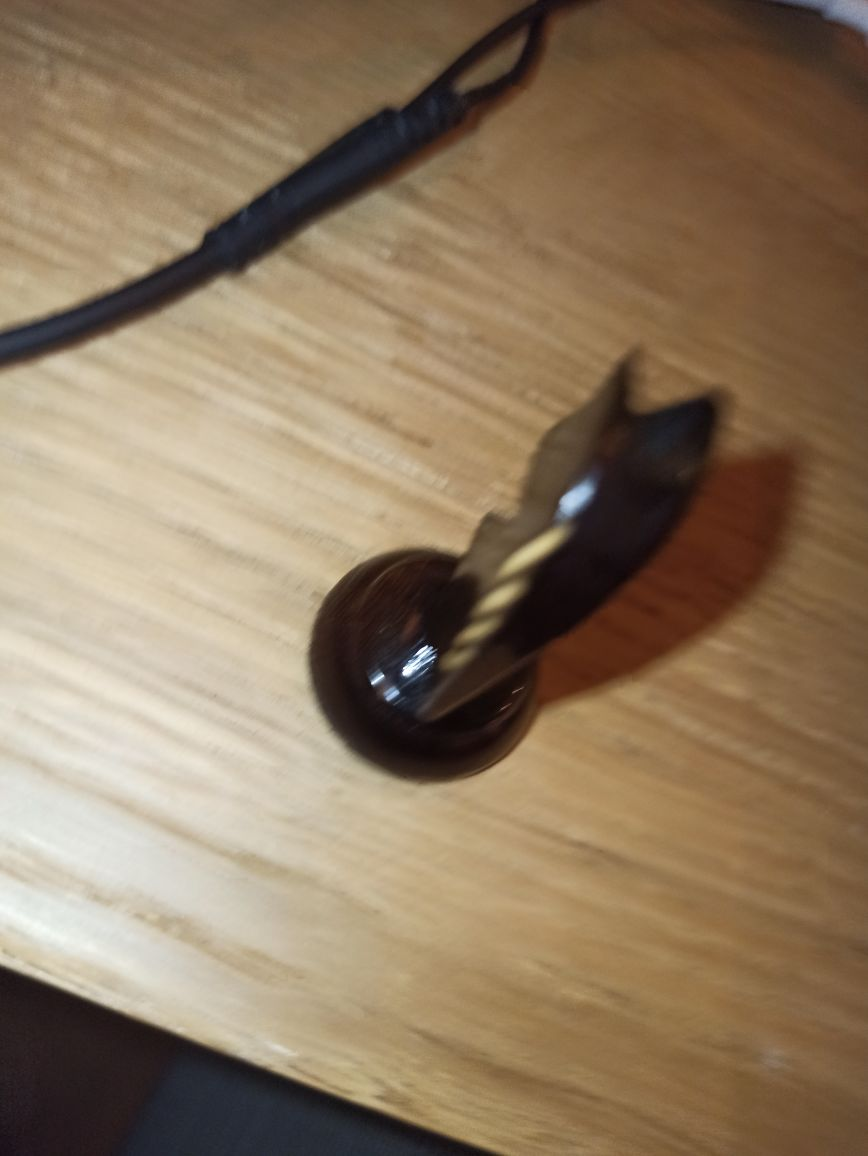bknight: (308, 348, 721, 796)
